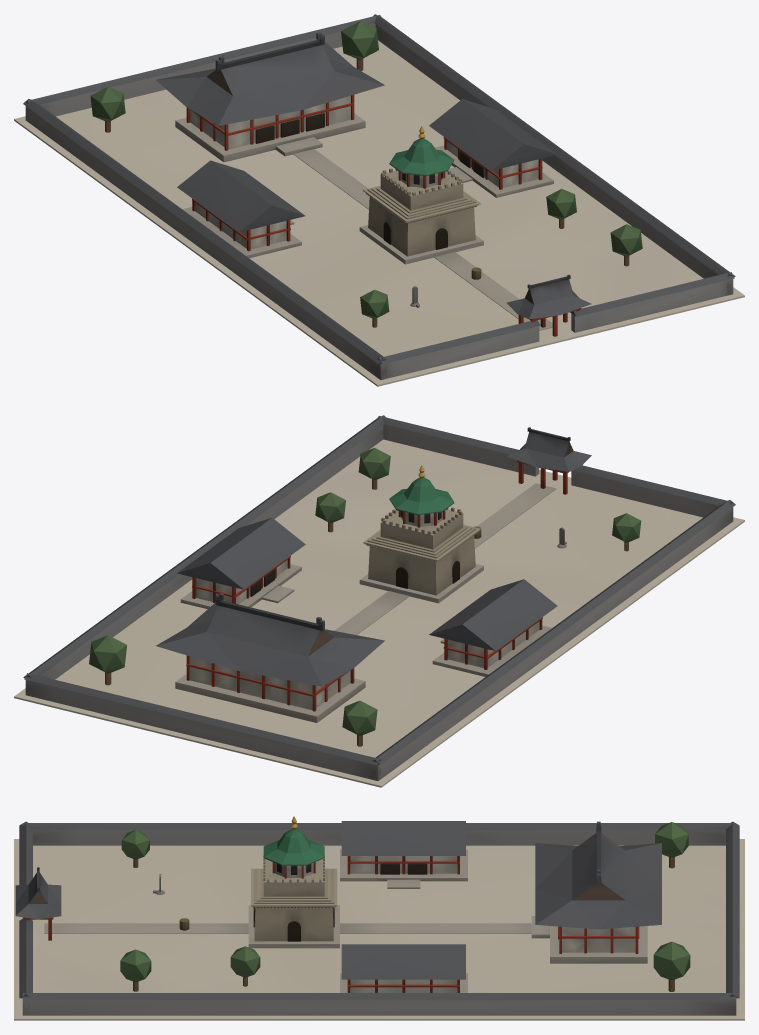
The model's file is yanqing-temple.glb.
3 renders of one model, top to bottom at view 1: azimuth 30°, elevation 25°; view 2: azimuth 150°, elevation 25°; view 3: azimuth 270°, elevation 25°, orthographic.
Parts seen in each view (by area): view 1: p0_court, p2_trees, p1_halls; view 2: p0_court, p2_trees, p1_halls; view 3: p0_court, p2_trees, p1_halls.
Part boxes in pixels (x1=…): p0_court: x1=14, y1=14, x2=744, y2=386; p2_trees: x1=90, y1=21, x2=642, y2=327; p1_halls: x1=175, y1=95, x2=591, y2=336; p0_court: x1=14, y1=415, x2=744, y2=787; p2_trees: x1=89, y1=447, x2=641, y2=746; p1_halls: x1=175, y1=427, x2=591, y2=722; p0_court: x1=14, y1=821, x2=744, y2=1020; p2_trees: x1=120, y1=816, x2=690, y2=991; p1_halls: x1=15, y1=849, x2=647, y2=992.
Size of the model in its own units: 70 by 20.7 by 120.
